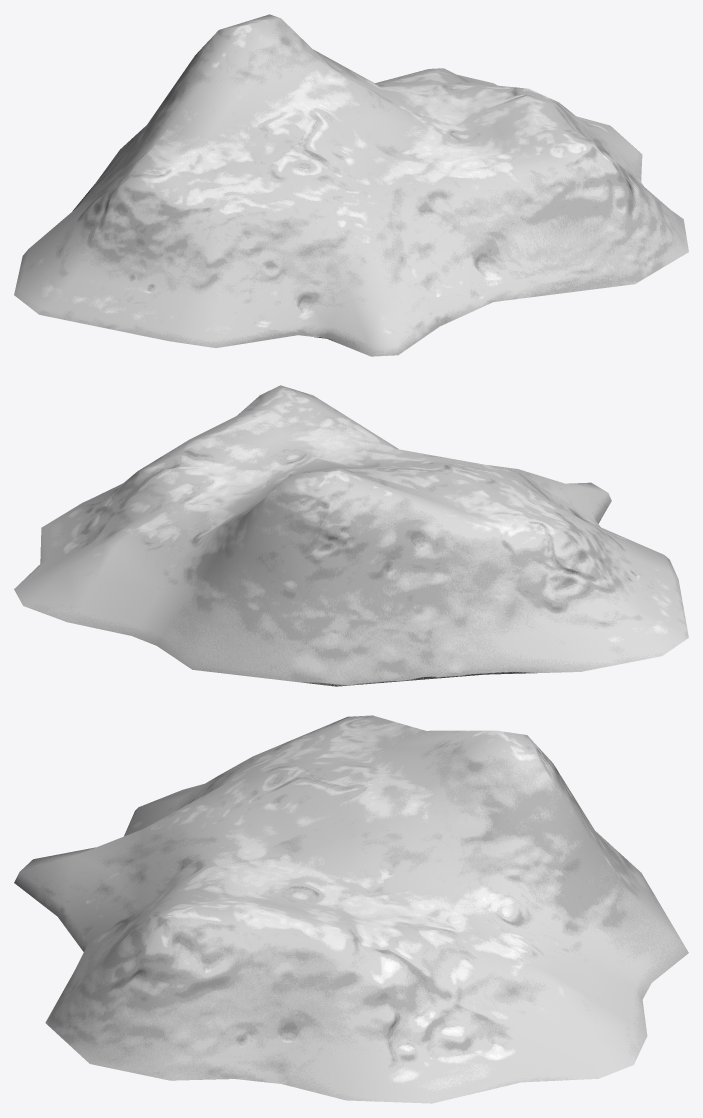
File: 214_a_pile_of_debris_lp.fbx
3 renders of one model, top to bottom at view 1: azimuth 30°, elevation 25°; view 2: azimuth 150°, elevation 25°; view 3: azimuth 270°, elevation 25°, orthographic. The views are drawn at different scales.
Visible parts, largest first — view 1: 214_a_pile_of_debris_low; view 2: 214_a_pile_of_debris_low; view 3: 214_a_pile_of_debris_low.
Part boxes in pixels (<box>): 214_a_pile_of_debris_low: <box>14,14,688,356</box>; 214_a_pile_of_debris_low: <box>14,385,688,686</box>; 214_a_pile_of_debris_low: <box>14,715,688,1103</box>.
Size of the model in its own units: 36.01 by 8.93 by 29.51.
